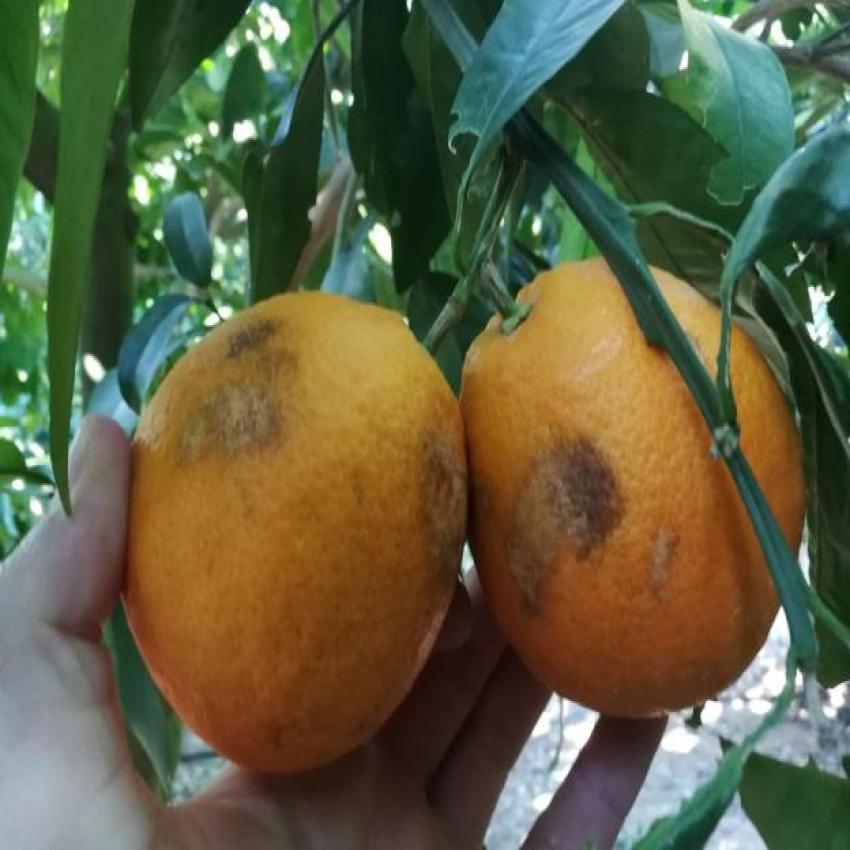Mal estado: (117, 269, 466, 784), (460, 257, 830, 730)
